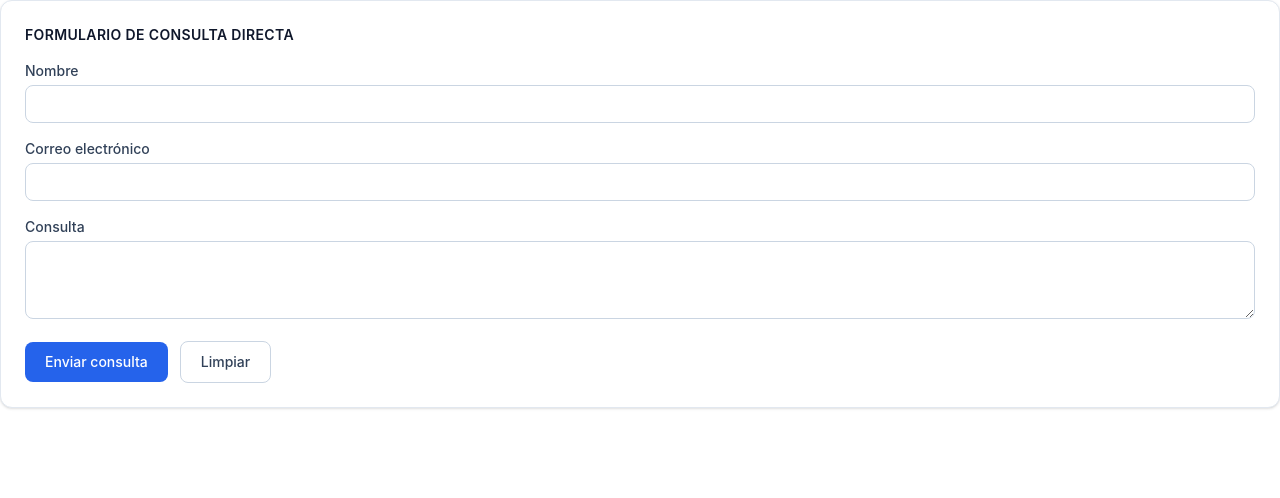
FormularioConsulta › rechaza un correo electrónico inválido
This screenshot has width=1280, height=498.
Type "correo-invalido" into the field labelled "Correo electrónico".
click(640, 182); type("correo-invalido")  # box top-left (25, 163), bottom-right (1255, 201)
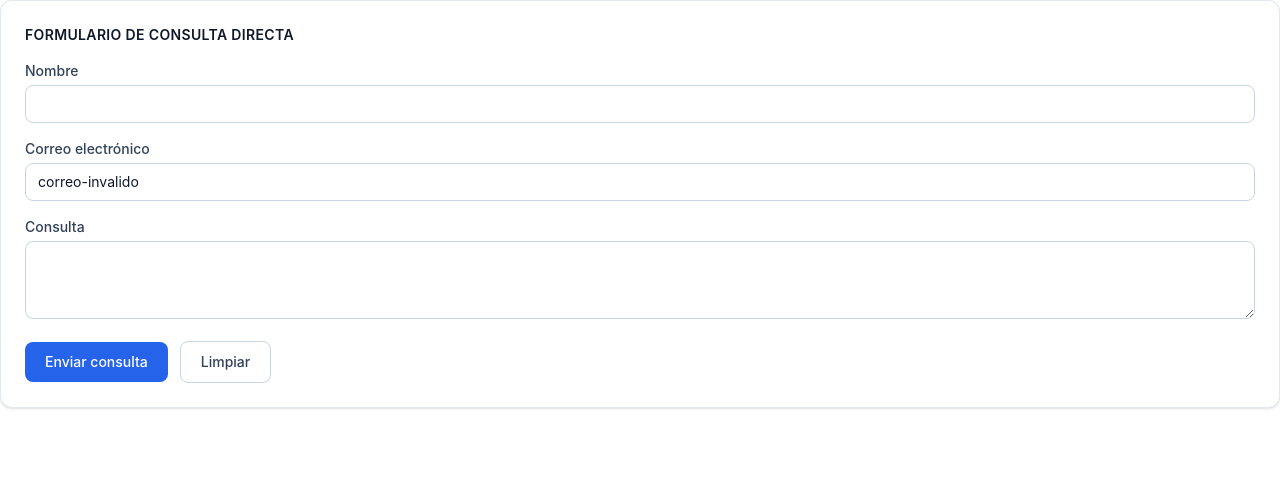
Click the button "Enviar consulta".
click(96, 362)  # box top-left (25, 342), bottom-right (168, 382)
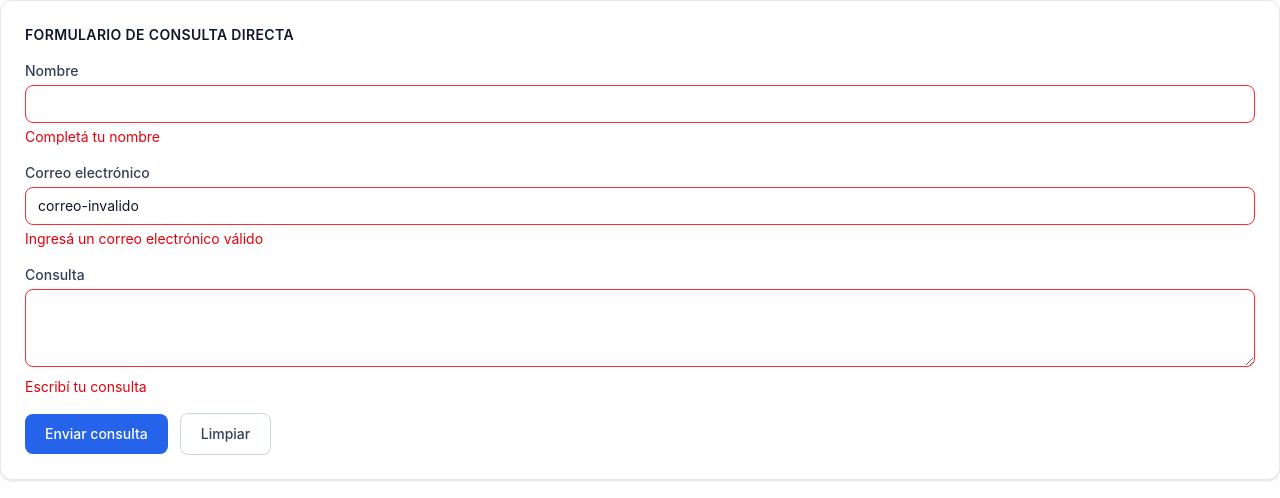
Expected: the text "Ingresá un correo electrónico válido" is shown, top-left (25, 230), bottom-right (263, 247)
